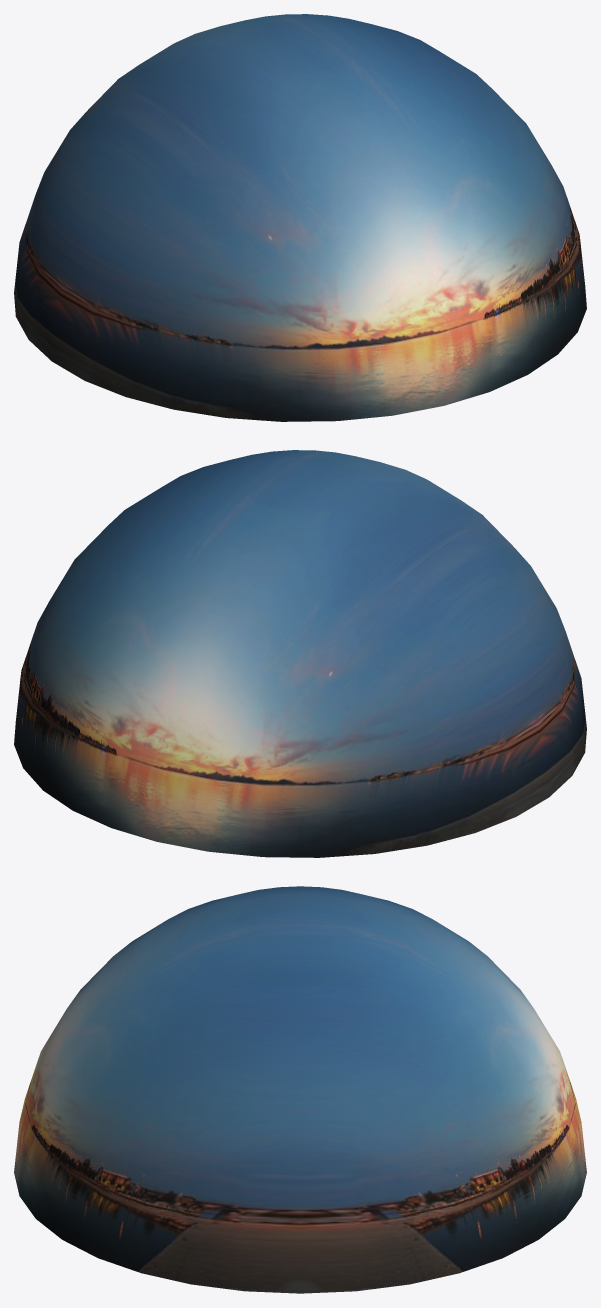
The model's file is sky.obj.
3 views of the same model, one above another, from view 1: azimuth 30°, elevation 25°; view 2: azimuth 150°, elevation 25°; view 3: azimuth 270°, elevation 25° (orthographic).
Visible parts, largest first — view 1: Sphere.001; view 2: Sphere.001; view 3: Sphere.001.
Boxes of the visible parts, left/top/right/bottom form: Sphere.001: left=14, top=14, right=586, bottom=421; Sphere.001: left=14, top=450, right=586, bottom=857; Sphere.001: left=14, top=886, right=586, bottom=1293.
Bounding box in the file's own units: 678 × 339 × 678.
Materials: 1 (1 with a texture image).
